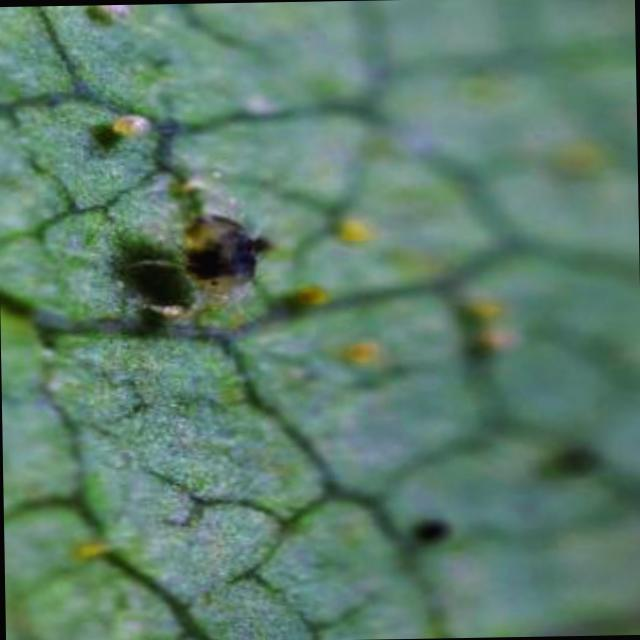spider mite: (138, 169, 284, 351)
